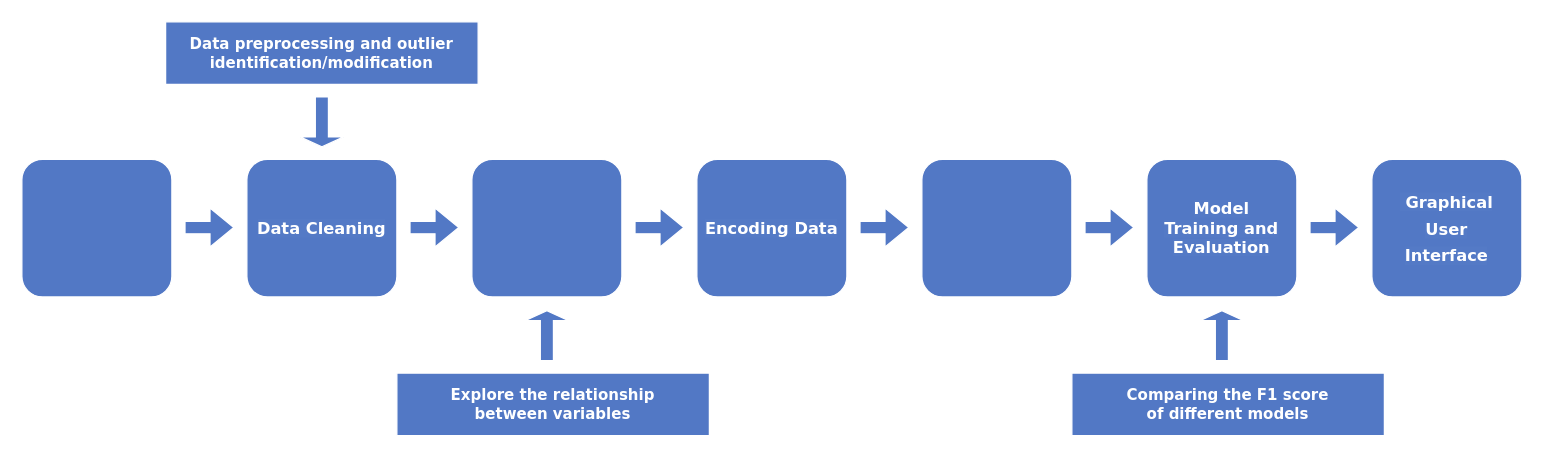
The diagram is 1544 pixels wide and 458 high, and some of its shapes have lost their labels. The shapes that lost their labels are listed below. From the top down, each one's centre as x and y in pixels, then its label:
At point (96, 227): "Data Loading".
At point (546, 227): "Exploratory Data Analysis".
At point (996, 227): "Feature Scaling".
